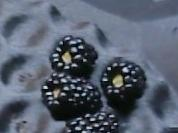berry: (41, 72, 101, 119), (100, 57, 146, 109), (50, 35, 98, 77), (65, 111, 119, 132)
